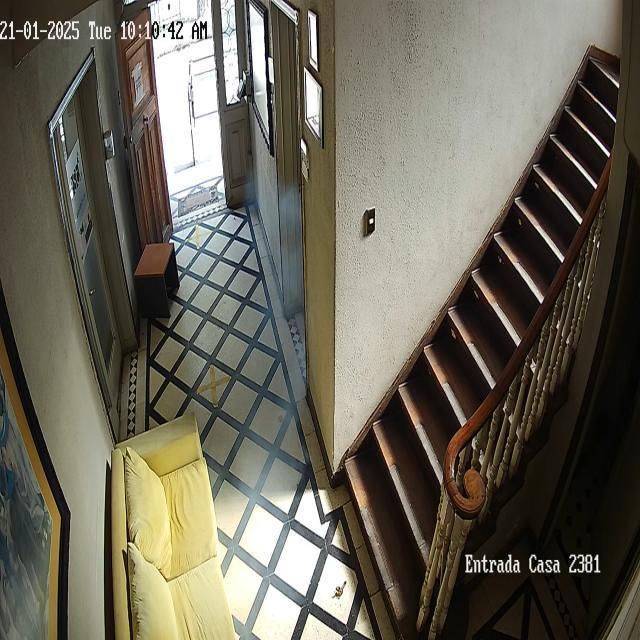fire: (188, 162, 308, 640)
